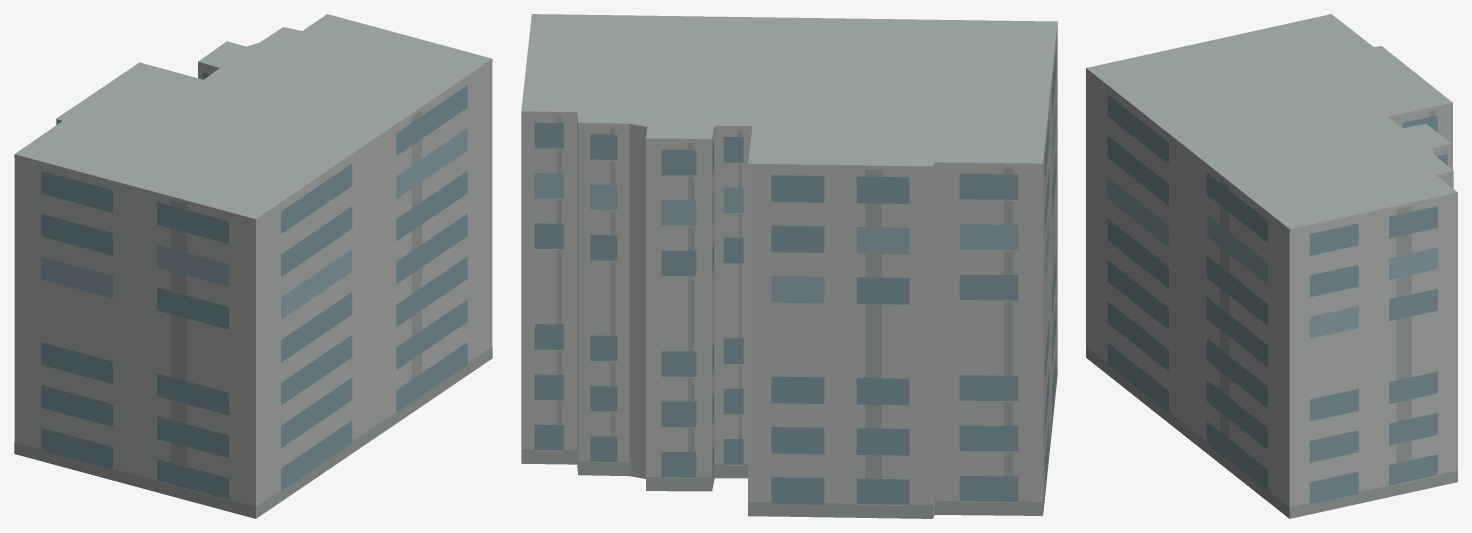
File: survey-upis-32658700.glb
3 renders of one model, left to right at view 1: azimuth 30°, elevation 25°; view 2: azimuth 150°, elevation 25°; view 3: azimuth 270°, elevation 25°, orthographic. The views are drawn at different scales.
Visible parts, largest first — view 1: survey-upis-32658700.tmp; view 2: survey-upis-32658700.tmp; view 3: survey-upis-32658700.tmp.
Boxes of the visible parts, box(x1,y1,x2,y2) form: survey-upis-32658700.tmp: box(14, 14, 492, 518); survey-upis-32658700.tmp: box(521, 14, 1057, 518); survey-upis-32658700.tmp: box(1086, 14, 1457, 518).
Size of the model in its own units: 31.8 by 19.95 by 23.22.
